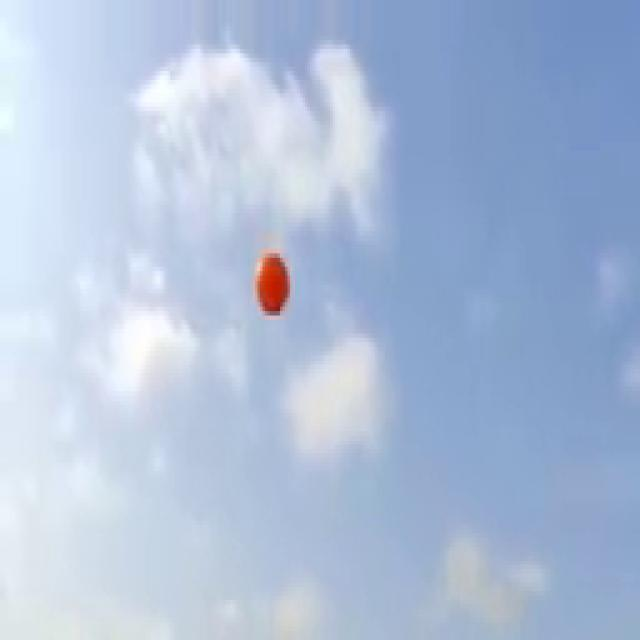red: (253, 250, 290, 315)
